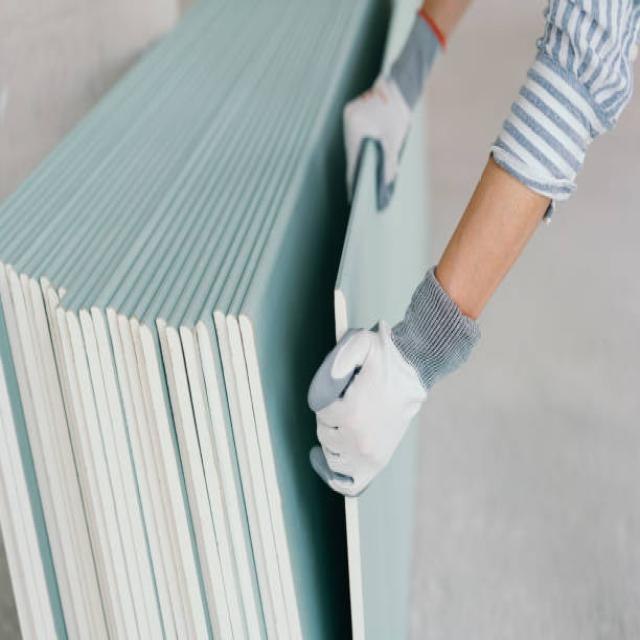gloves: (310, 264, 484, 496), (342, 9, 450, 215)
